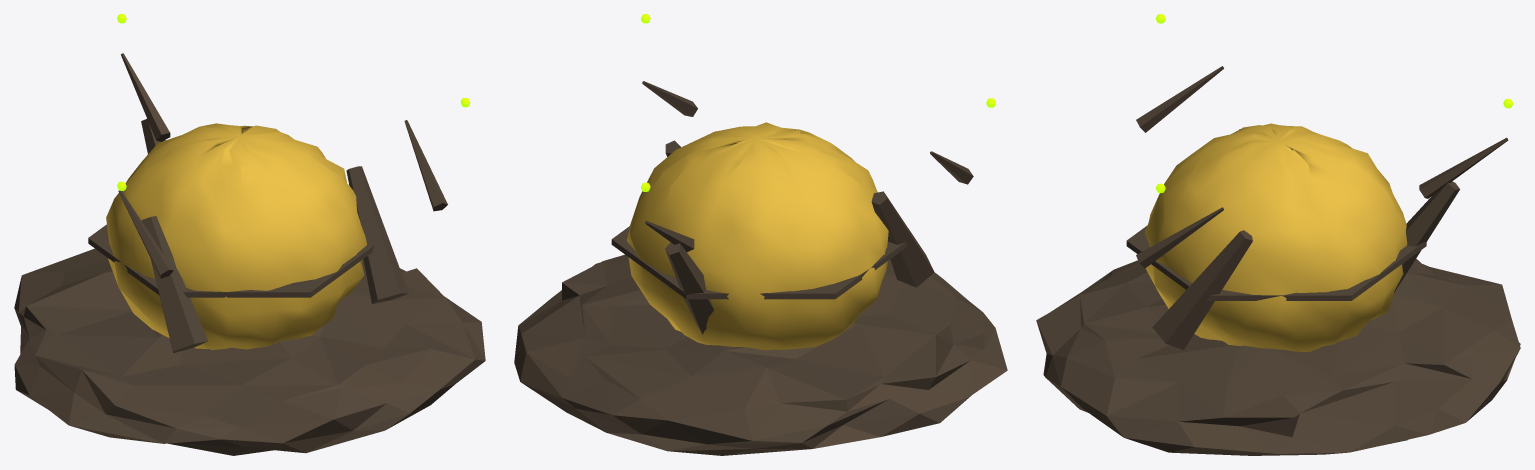
File: verdant_apex_hatchery.glb
3 renders of one model, left to right at view 1: azimuth 30°, elevation 25°; view 2: azimuth 150°, elevation 25°; view 3: azimuth 270°, elevation 25°, orthographic.
Parts seen in each view (by area): view 1: VerdantApexHatchery; view 2: VerdantApexHatchery; view 3: VerdantApexHatchery.
Boxes of the visible parts, bbox=[...] form: VerdantApexHatchery: bbox=[14, 14, 485, 455]; VerdantApexHatchery: bbox=[514, 14, 1007, 455]; VerdantApexHatchery: bbox=[1036, 14, 1520, 455].
Bounding box in the file's own units: 5.65 × 3.73 × 5.65.
